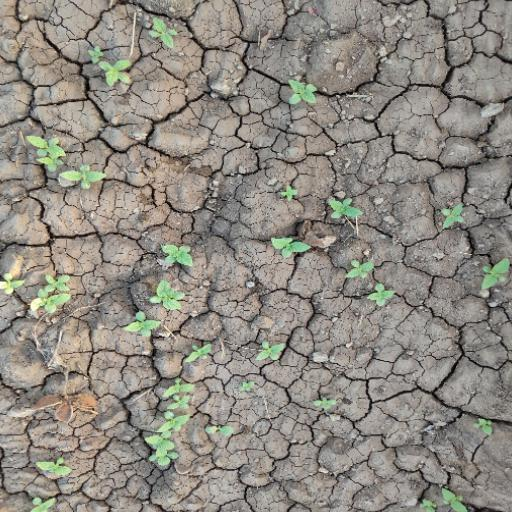crop: (142, 378, 196, 479), (24, 131, 109, 192), (144, 234, 196, 313), (26, 264, 76, 328), (343, 256, 398, 307), (83, 46, 135, 89), (265, 231, 313, 262), (322, 189, 364, 224), (437, 199, 470, 233), (285, 76, 319, 107), (252, 336, 288, 365)
